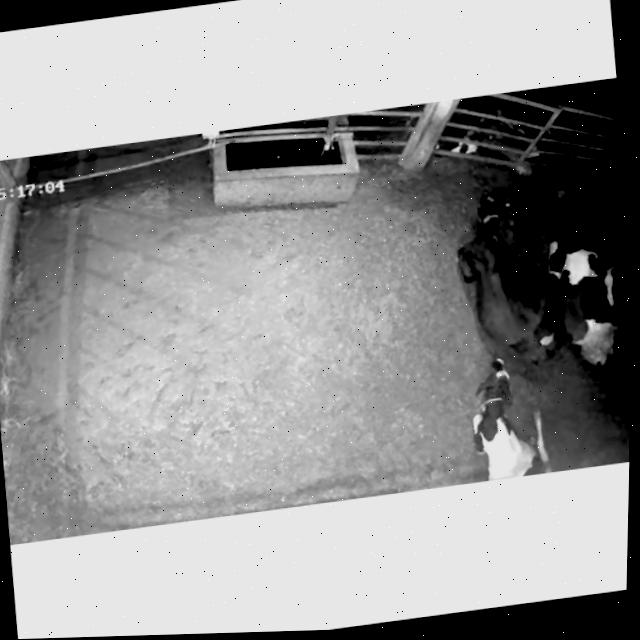lay: (435, 171, 563, 376), (537, 169, 636, 375), (432, 336, 563, 486)
